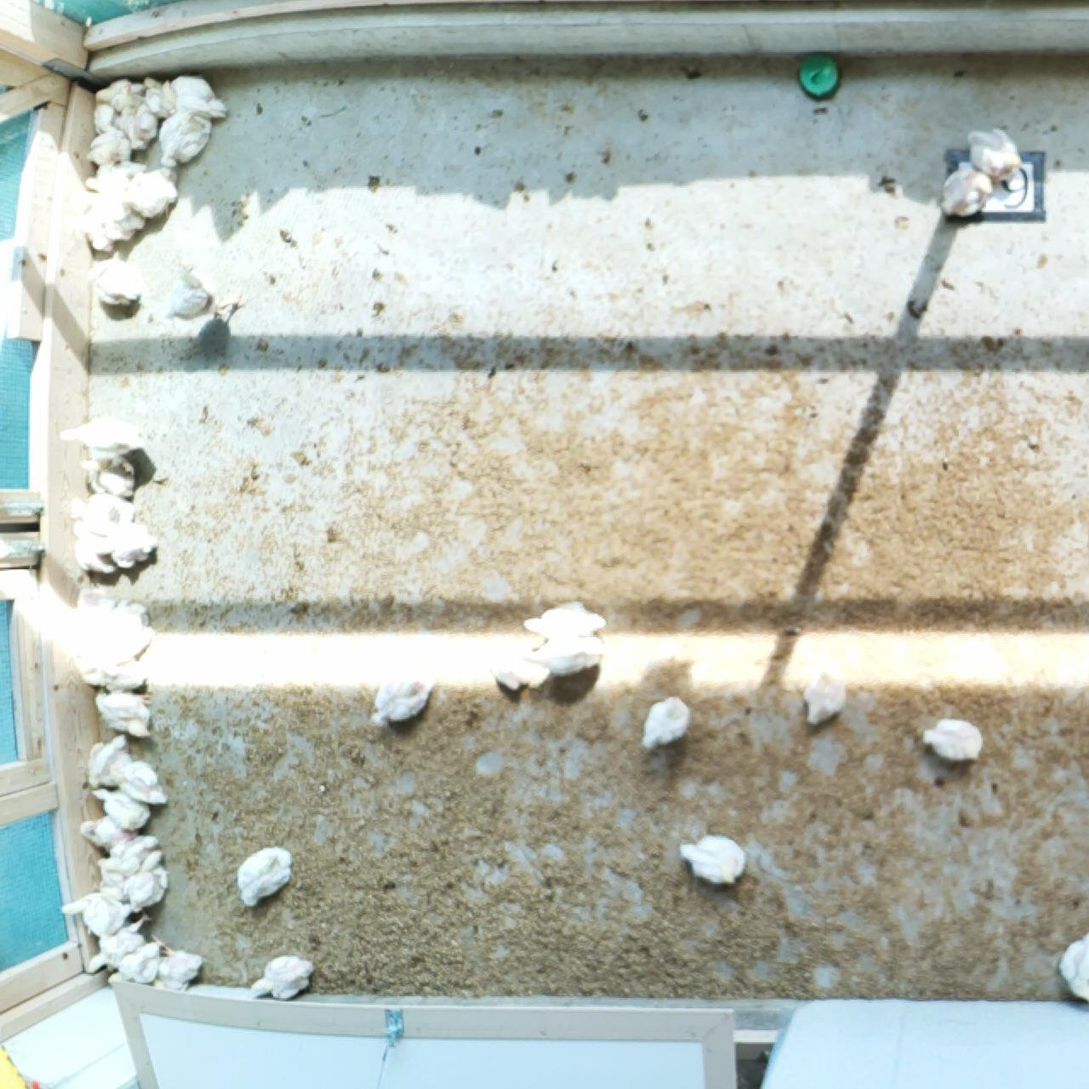chicken: (364, 652, 441, 731), (53, 408, 149, 462), (674, 828, 751, 890), (915, 713, 998, 770), (791, 654, 854, 726), (523, 630, 607, 682), (99, 597, 156, 672), (93, 515, 163, 576), (84, 913, 151, 976), (235, 840, 296, 909), (67, 640, 148, 691), (518, 593, 614, 636), (934, 160, 994, 226), (637, 688, 694, 756), (476, 630, 535, 695), (246, 950, 319, 1002), (75, 446, 142, 502), (64, 490, 141, 538), (68, 584, 123, 651), (193, 295, 247, 363), (963, 124, 1026, 182), (155, 108, 213, 169), (93, 687, 159, 740), (85, 257, 145, 315), (159, 72, 232, 119), (108, 757, 171, 811), (161, 261, 217, 321), (122, 847, 171, 915), (106, 932, 165, 988), (125, 165, 181, 224), (56, 891, 140, 930), (150, 942, 208, 997), (67, 517, 117, 578), (87, 729, 134, 793), (97, 832, 162, 878), (1053, 924, 1089, 1003), (75, 188, 115, 258), (84, 157, 147, 201), (90, 787, 151, 832), (78, 812, 141, 853), (98, 194, 146, 244), (85, 127, 138, 170), (93, 75, 152, 108), (125, 102, 160, 152), (140, 71, 174, 121), (94, 865, 130, 898), (89, 98, 118, 135), (114, 104, 138, 137)
